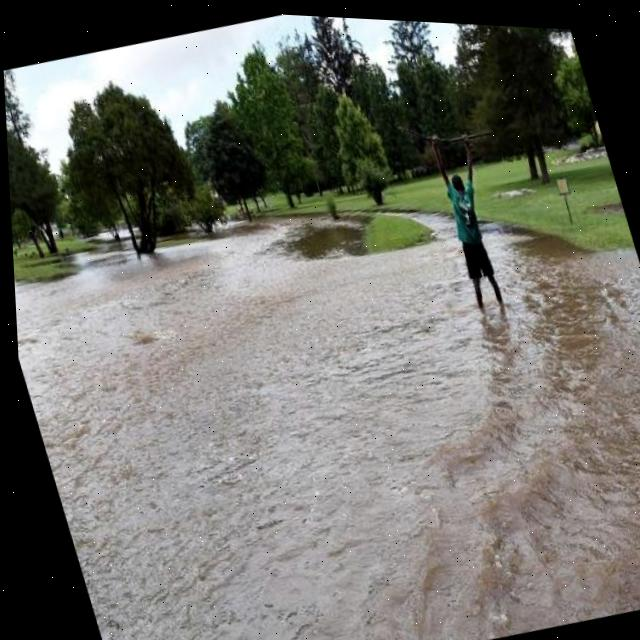civilian: (389, 106, 554, 354)
